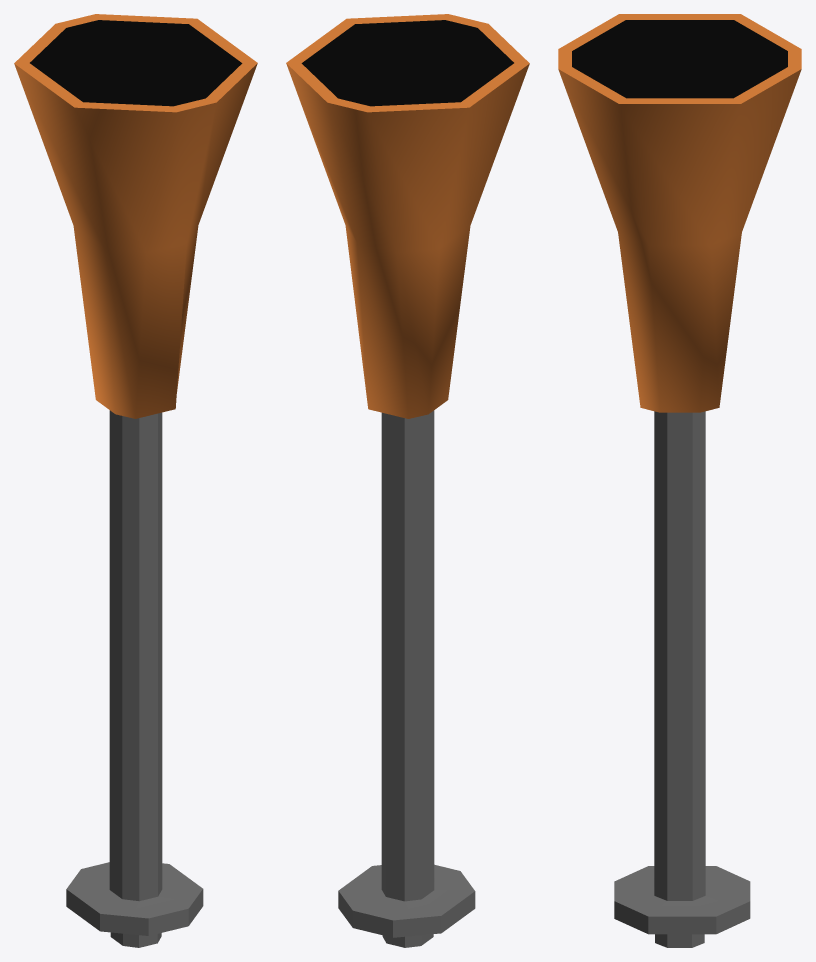
File: puipui.fbx
The picture shows the model from 3 angles, left to right: view 1: azimuth 30°, elevation 25°; view 2: azimuth 150°, elevation 25°; view 3: azimuth 270°, elevation 25°; orthographic projection.
Visible parts, largest first — view 1: puipui; view 2: puipui; view 3: puipui.
Boxes of the visible parts, x1,y1,x2,y2 form: puipui: (14,14,257,947); puipui: (286,14,529,947); puipui: (558,14,801,947).
Bounding box in the file's own units: 56.59 × 258 × 64.69.
